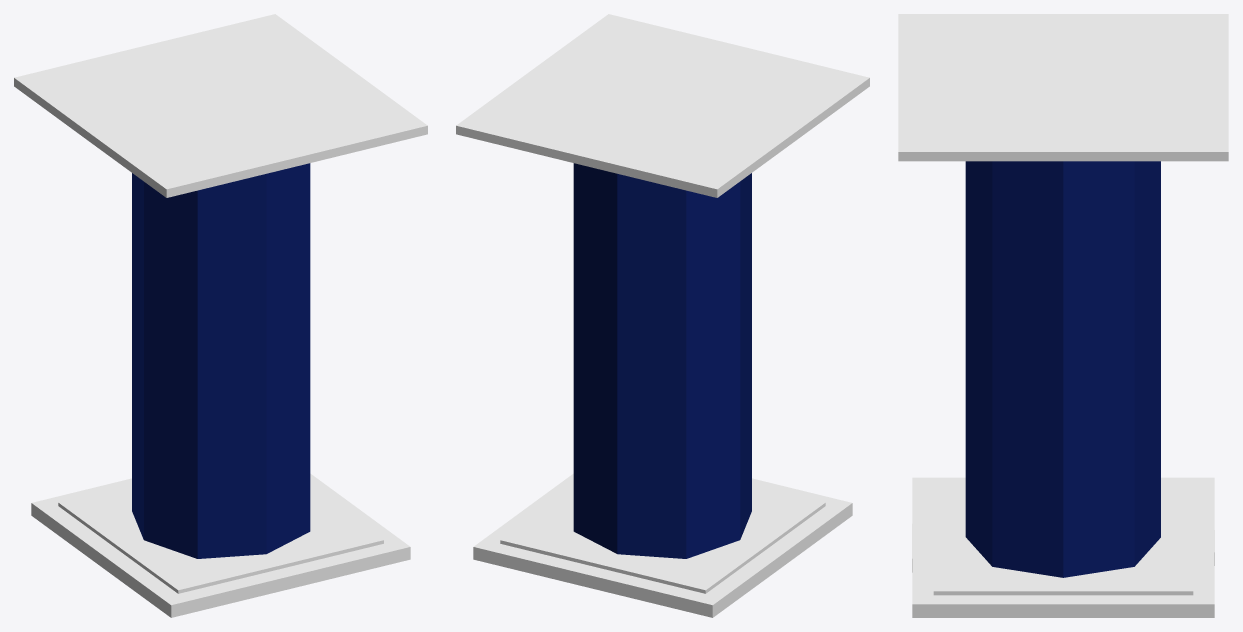
The model's file is Columna_baja.fbx.
3 views of the same model, side by side, from view 1: azimuth 30°, elevation 25°; view 2: azimuth 150°, elevation 25°; view 3: azimuth 270°, elevation 25° (orthographic). The views are drawn at different scales.
Visible parts, largest first — view 1: Object010; view 2: Object010; view 3: Object010.
Boxes of the visible parts, bbox=[...] form: Object010: bbox=[14, 14, 427, 617]; Object010: bbox=[456, 14, 869, 617]; Object010: bbox=[898, 14, 1228, 617].
Size of the model in its own units: 93.25 by 149 by 94.31.
